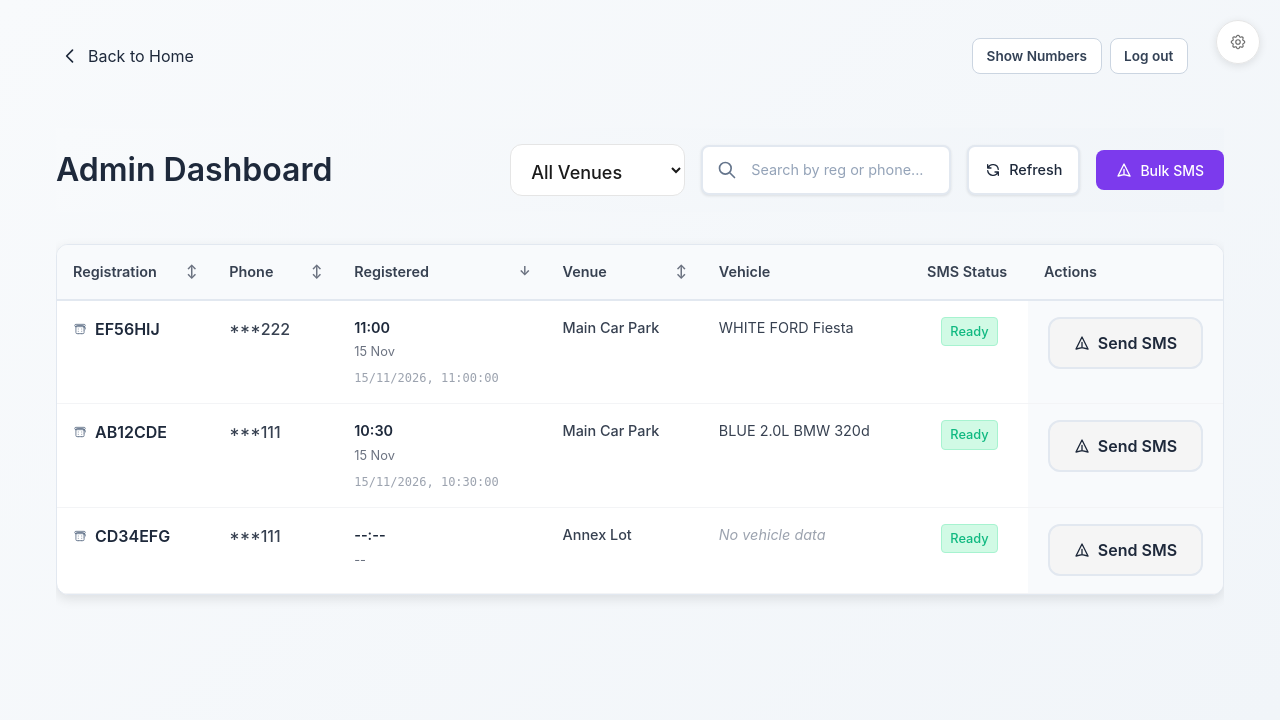
Test: AdminLogin & AdminDashboard › masks phone numbers by default, supports spaced plate & 07 phone search, preserves search on refresh, and sends x-admin-token
The image size is (1280, 720).
Later steps or results of the test are not shown.
Expected: the text "AB12CDE" is shown, [95,420,167,444]
Expected: the text "BLUE 2.0L BMW 320d" is shown, [719,422,870,439]
Click the button "Show Numbers".
click(1037, 56)  # box [972,38,1102,74]
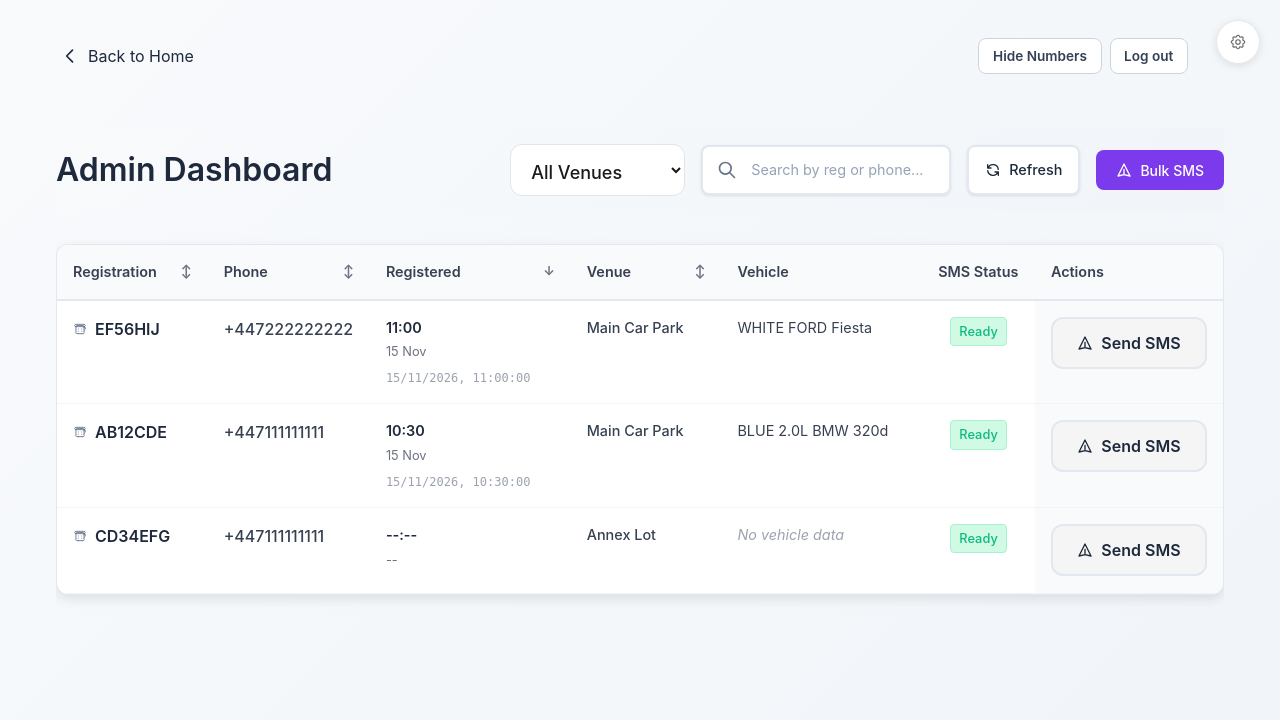
Expected: the text "+447111111111" is shown 2 times, [224,422,324,442]; [224,526,324,546]
Search with spaced plate query
Type "ab12 cde" into the field named "Search registrations".
click(826, 170); type("ab12 cde")  # box [701,145,951,195]
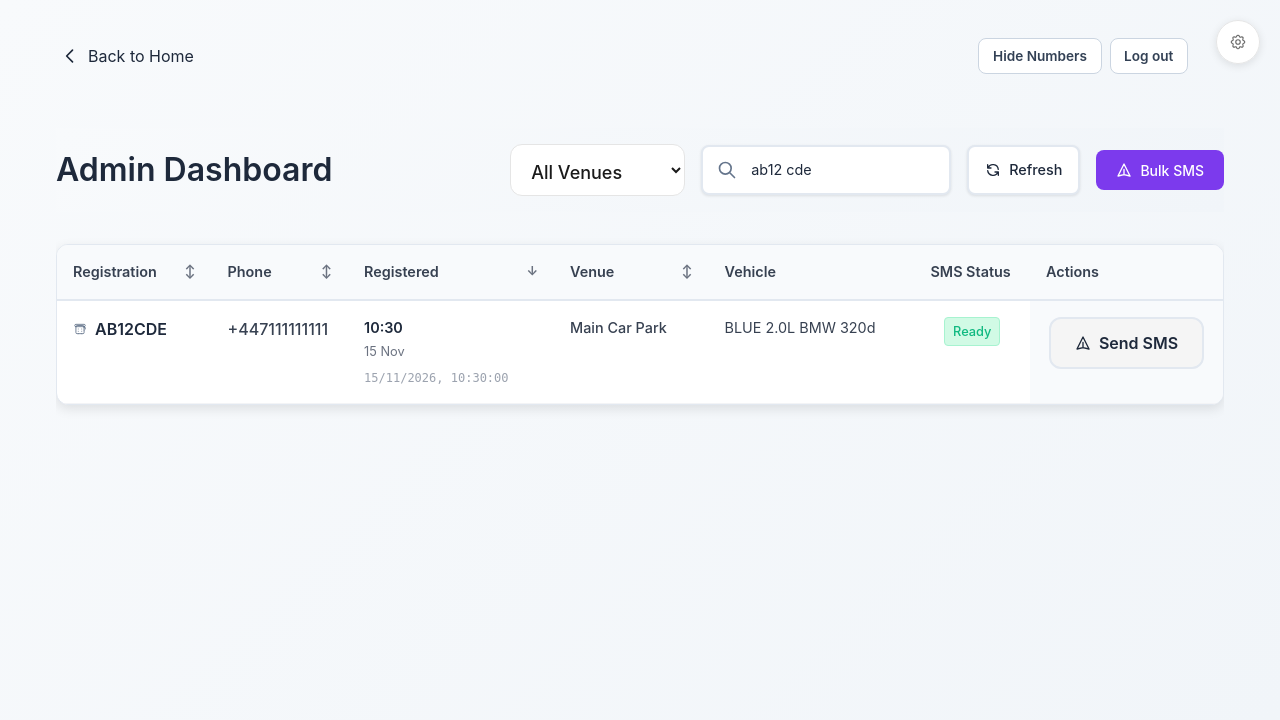
Expected: the text "AB12CDE" is shown, [95,317,167,341]
Result: the text "EF56HIJ" is gone
Search with local 07 mobile prefix against +44 stored number
Replace the text in the field named "Search registrations" with "07222 222" at (826, 170), box [701,145,951,195]
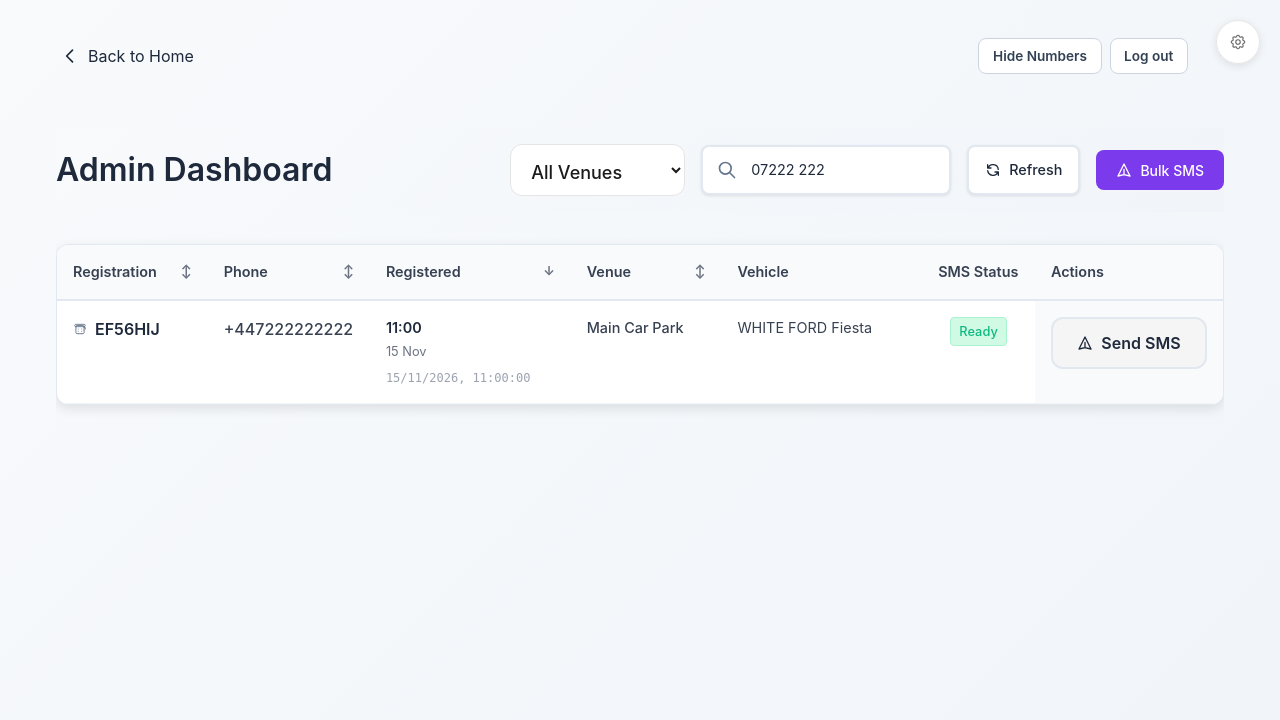
Result: the text "EF56HIJ" is shown at [95,317,160,341]
Result: the text "AB12CDE" is gone
